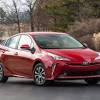Toyota: (1, 34, 99, 81)
